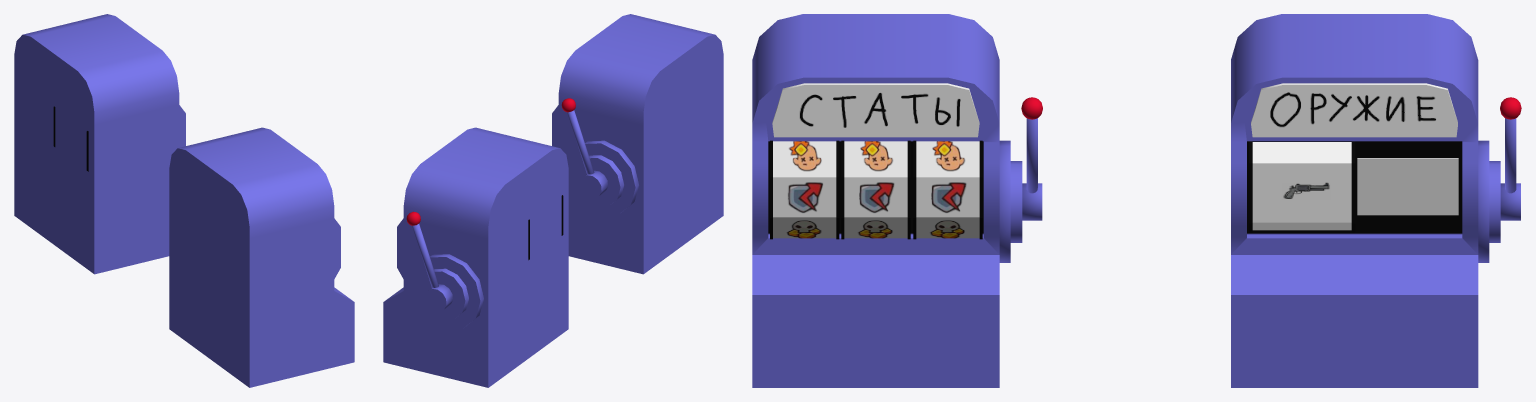
File: slotMachines.fbx
3 renders of one model, left to right at view 1: azimuth 30°, elevation 25°; view 2: azimuth 150°, elevation 25°; view 3: azimuth 270°, elevation 25°, orthographic. The views are drawn at different scales.
Parts seen in each view (by area): view 1: StatsSlotMachine, WeaponsSlotMachine; view 2: WeaponsSlotMachine, StatsSlotMachine, StatsLever, WeaponsLever; view 3: WeaponsSlotMachine, StatsSlotMachine, StatsHeading, WeaponsHeading, Cylinder, StatsSlot1, StatsSlot2, StatsSlot3, StatsLever, WeaponsLever.
Part boxes in pixels (x1,y1,x2,y2): StatsSlotMachine: (169,127,354,387); WeaponsSlotMachine: (14,14,185,274); WeaponsSlotMachine: (383,127,568,387); StatsSlotMachine: (552,14,723,274); StatsLever: (561,98,607,198); WeaponsLever: (406,211,452,311); WeaponsSlotMachine: (1231,14,1500,387); StatsSlotMachine: (752,14,1022,387); StatsHeading: (772,83,979,137); WeaponsHeading: (1251,83,1457,137); Cylinder: (1249,141,1355,232); StatsSlot1: (770,140,839,239); StatsSlot2: (841,140,910,239); StatsSlot3: (913,140,982,239); StatsLever: (1021,97,1042,220); WeaponsLever: (1500,97,1521,220).
Size of the model in its own units: 81.5 by 141 by 333.
Materials: 8 (4 with a texture image).
